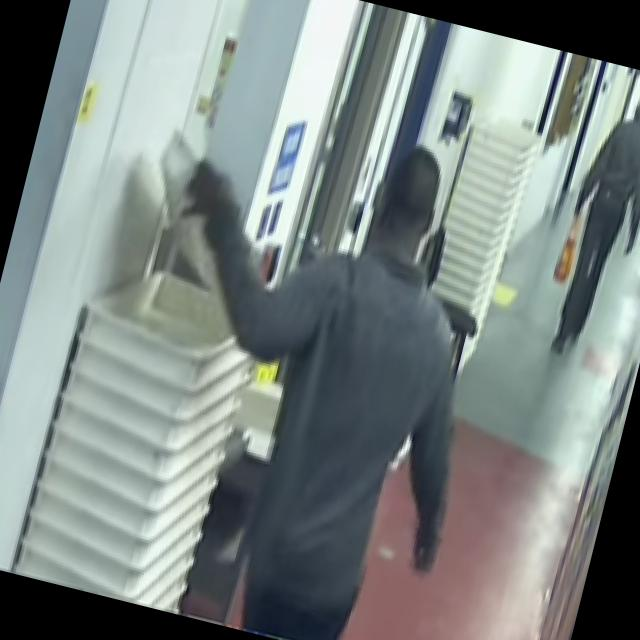person: (81, 92, 531, 640), (538, 79, 640, 361)
